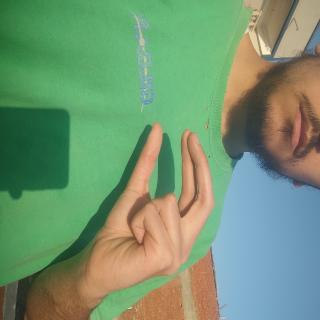DHELL: (90, 142, 220, 314)
